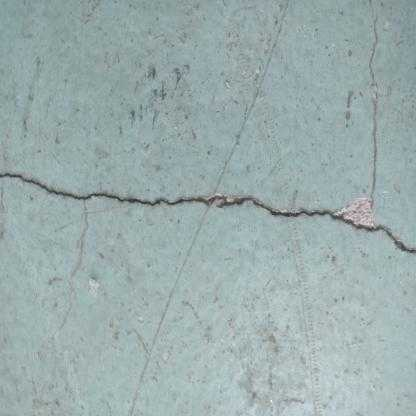crack: (1, 173, 415, 253)
